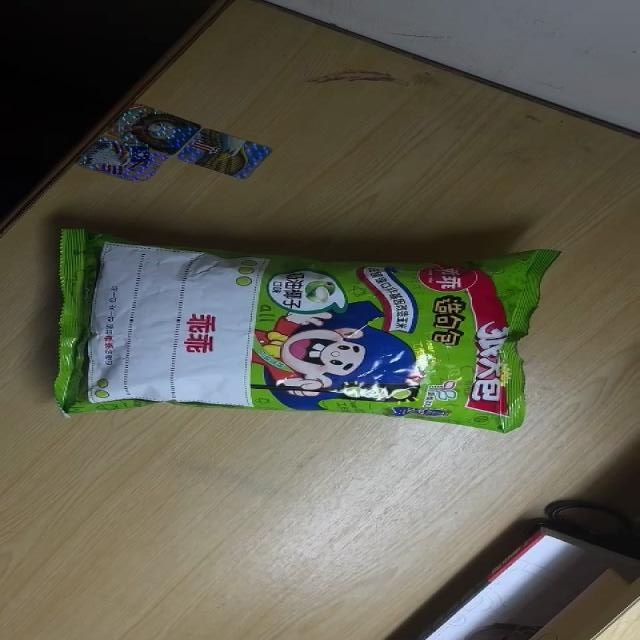Good-Luck: (55, 229, 564, 433)
